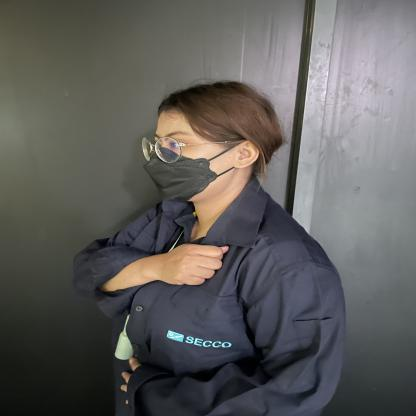Sadness: (83, 222, 270, 305)
